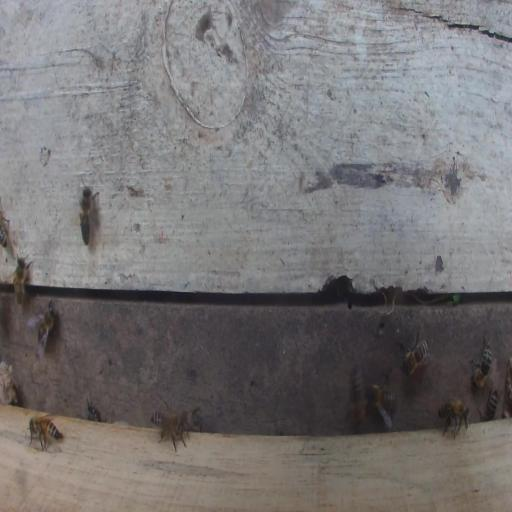nonpollenbee: (150, 405, 187, 452), (78, 175, 101, 247), (25, 412, 64, 453), (367, 376, 395, 428), (7, 255, 34, 307), (347, 363, 367, 431), (439, 398, 470, 440), (469, 334, 492, 390), (400, 335, 429, 377), (37, 302, 56, 355), (478, 389, 500, 421), (180, 406, 202, 432), (0, 196, 9, 248), (87, 400, 101, 422)
